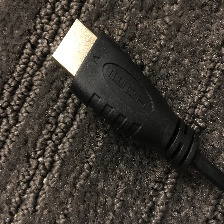hdmi_male: (36, 11, 202, 174)
